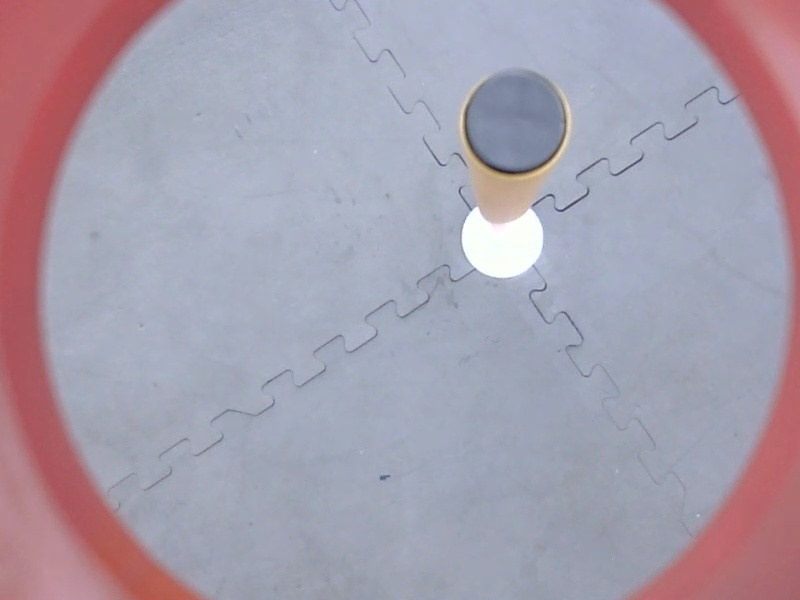tip: (452, 62, 579, 187)
